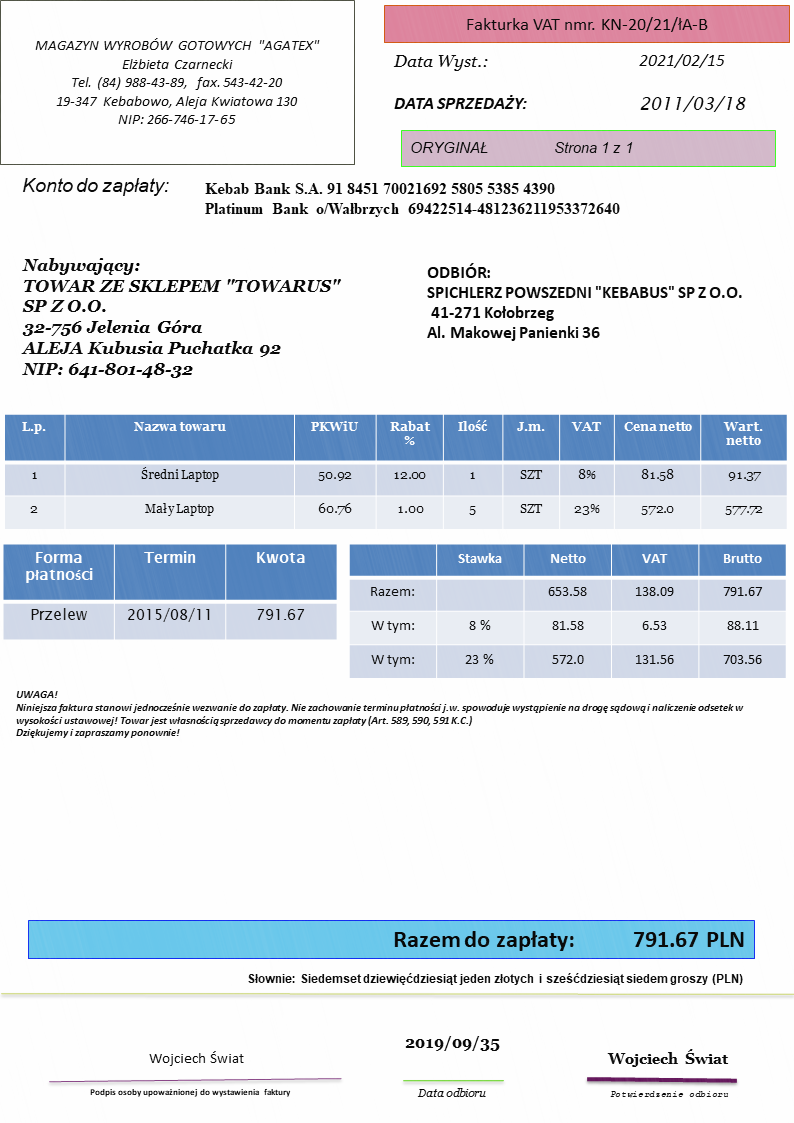Table: (2, 410, 788, 531), (346, 544, 788, 681), (2, 542, 338, 643)
TextBox: (19, 255, 342, 383), (13, 686, 746, 740), (30, 37, 325, 128), (423, 261, 749, 342), (200, 176, 622, 221), (242, 967, 746, 988), (387, 924, 747, 953), (460, 13, 712, 34), (408, 136, 640, 158), (16, 173, 172, 196), (390, 91, 527, 116), (600, 1046, 733, 1070), (86, 1085, 295, 1099), (637, 90, 749, 114), (638, 46, 726, 73), (400, 1032, 504, 1054), (390, 50, 493, 72), (143, 1046, 246, 1068), (606, 1086, 731, 1101), (415, 1082, 488, 1101)
